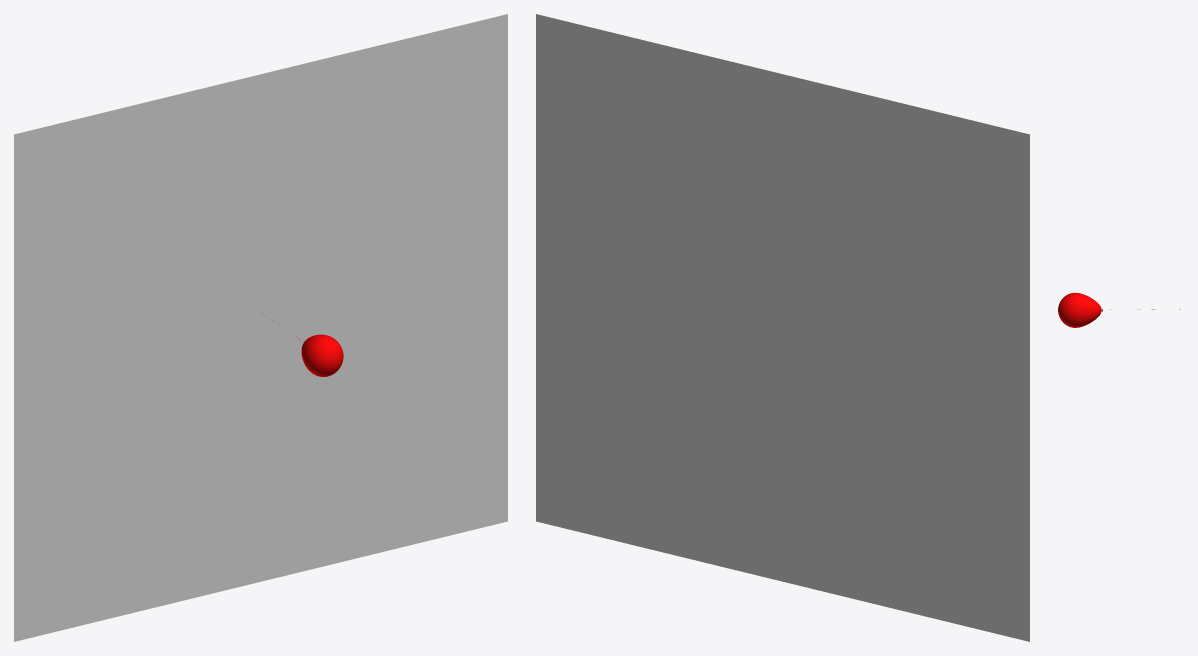
File: ballon.dae
The picture shows the model from 3 angles, left to right: view 1: azimuth 30°, elevation 25°; view 2: azimuth 150°, elevation 25°; view 3: azimuth 270°, elevation 25°; orthographic projection. The views are drawn at different scales.
Bounding box in the file's own units: 1416 × 1391 × 372.
